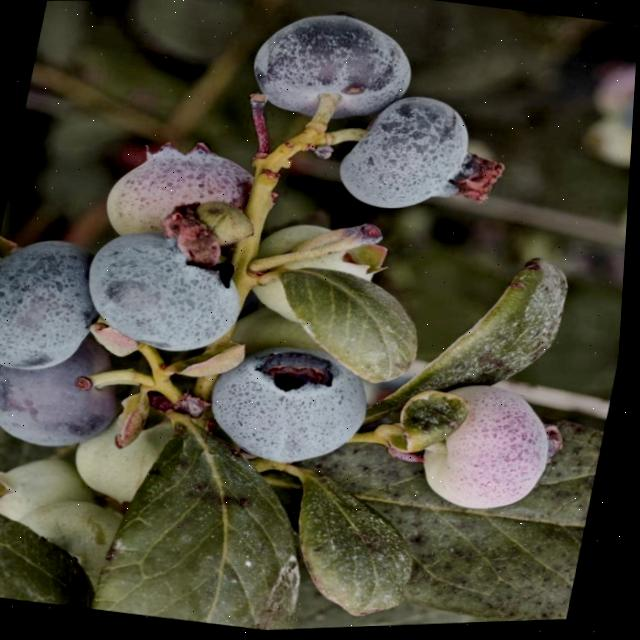RipeBlueBerry: (330, 86, 515, 230), (244, 0, 428, 132), (209, 340, 383, 476), (81, 219, 248, 360), (0, 225, 108, 372)
Semi-RipeBlueBerry: (416, 382, 571, 524)
